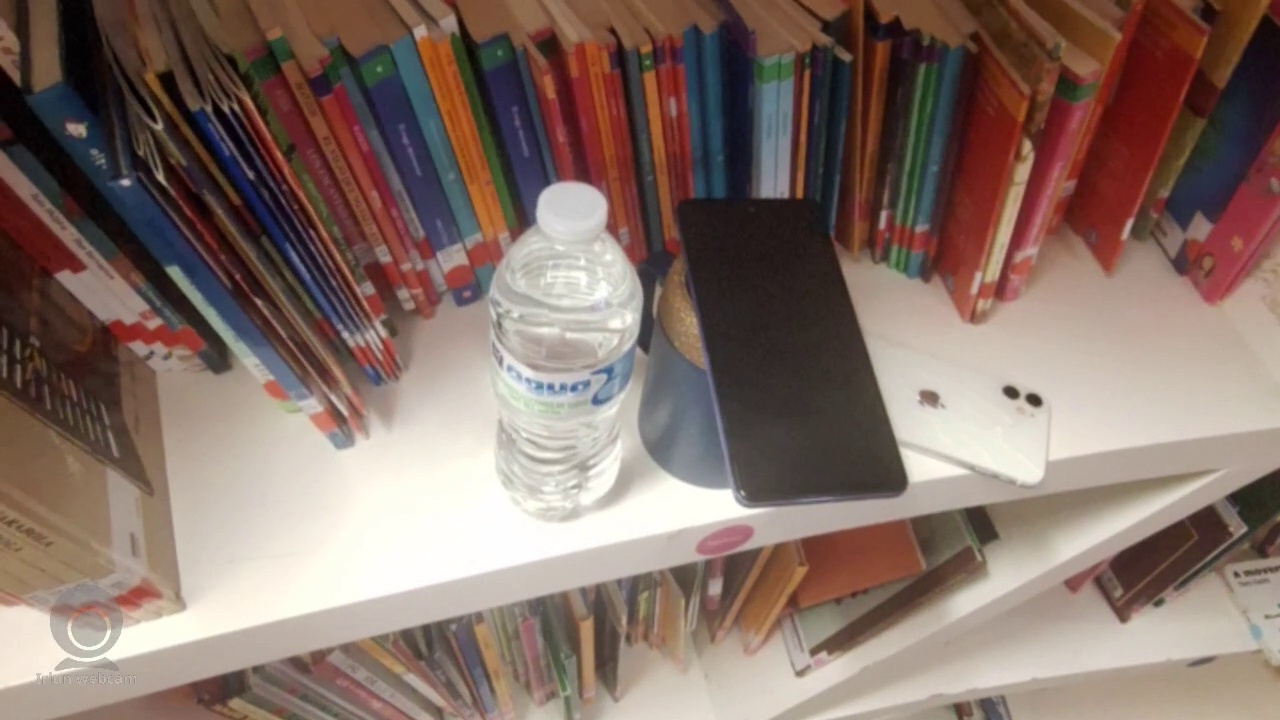botella: (487, 180, 645, 525)
